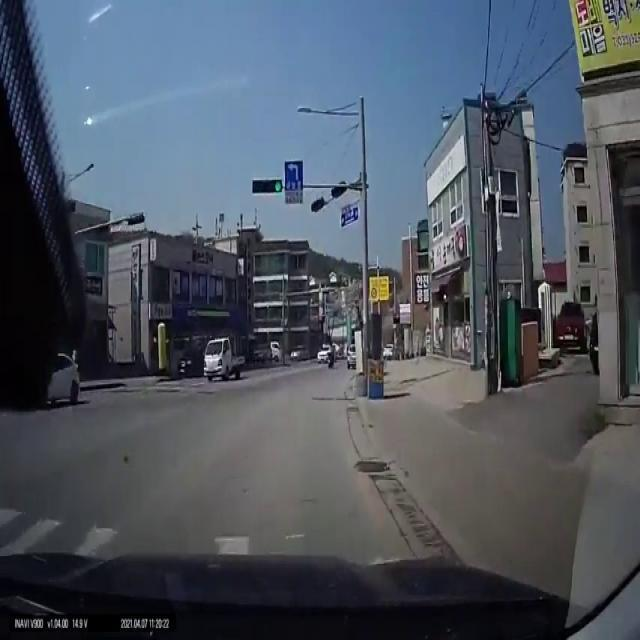pothole: (353, 460, 391, 473)
